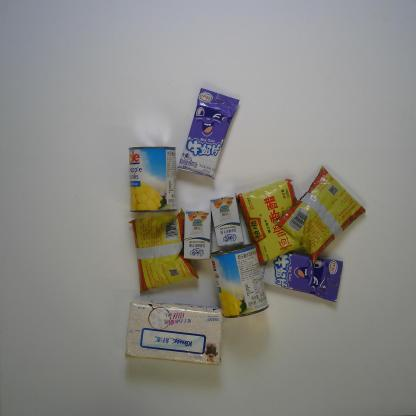Candy: (175, 87, 240, 180), (247, 248, 343, 304)
Canned Food: (209, 243, 270, 319), (128, 146, 178, 212)
Milk: (210, 194, 244, 248), (184, 210, 212, 260)
Seasoner: (274, 165, 366, 266), (128, 207, 199, 294), (236, 178, 306, 264)
Tissue: (125, 298, 224, 367)
